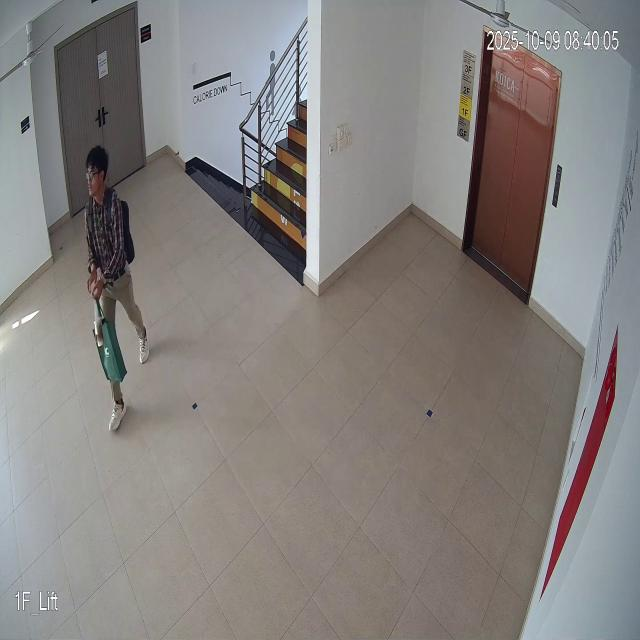face: (83, 133, 113, 202)
